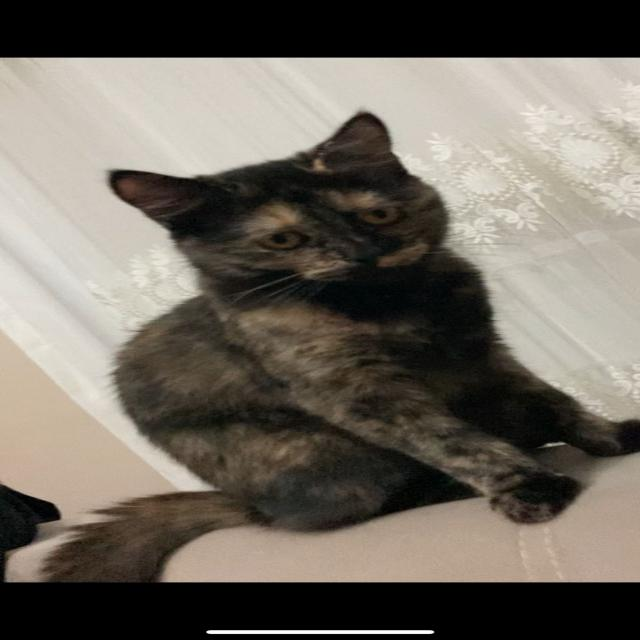authorized: (35, 109, 638, 582)
